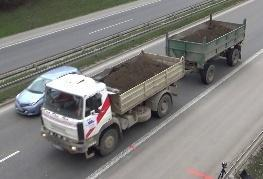Car: (15, 65, 79, 117)
Truck: (43, 16, 243, 159)
